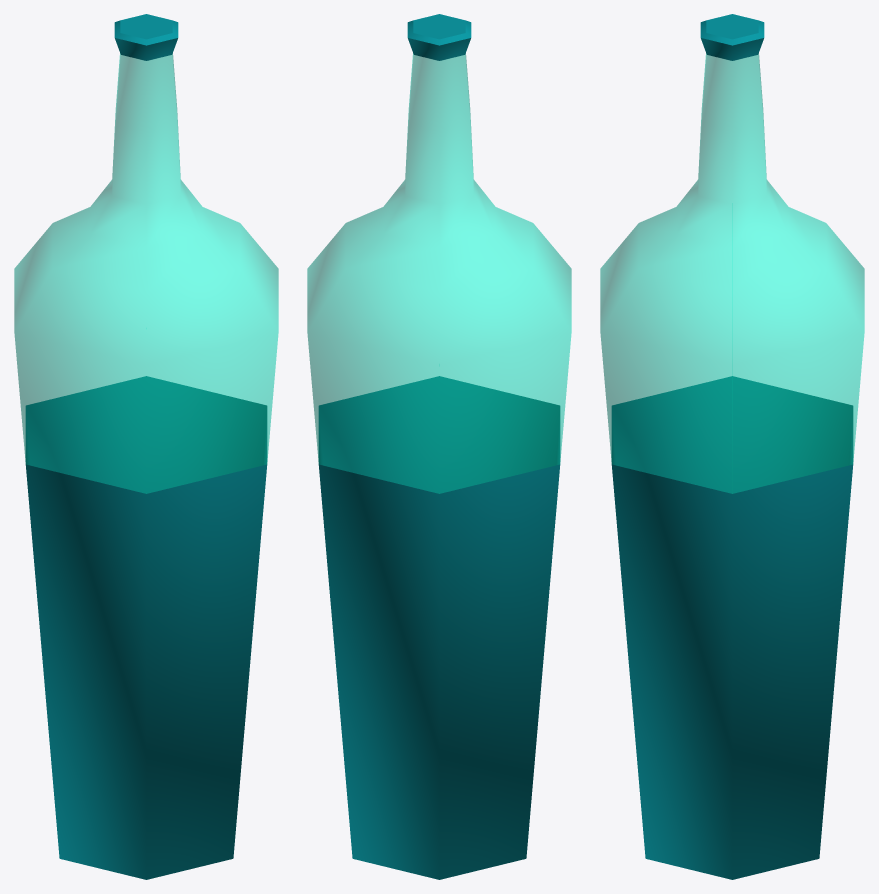
The model's file is Bottle_10.glb.
3 renders of one model, left to right at view 1: azimuth 30°, elevation 25°; view 2: azimuth 150°, elevation 25°; view 3: azimuth 270°, elevation 25°, orthographic.
Visible parts, largest first — view 1: Bottle10; view 2: Bottle10; view 3: Bottle10.
Boxes of the visible parts, x1,y1,x2,y2 form: Bottle10: (14, 14, 278, 879); Bottle10: (307, 14, 571, 879); Bottle10: (600, 14, 864, 879).
Size of the model in its own units: 0.1195 by 0.3506 by 0.1035.
2 materials, 2 textured.
